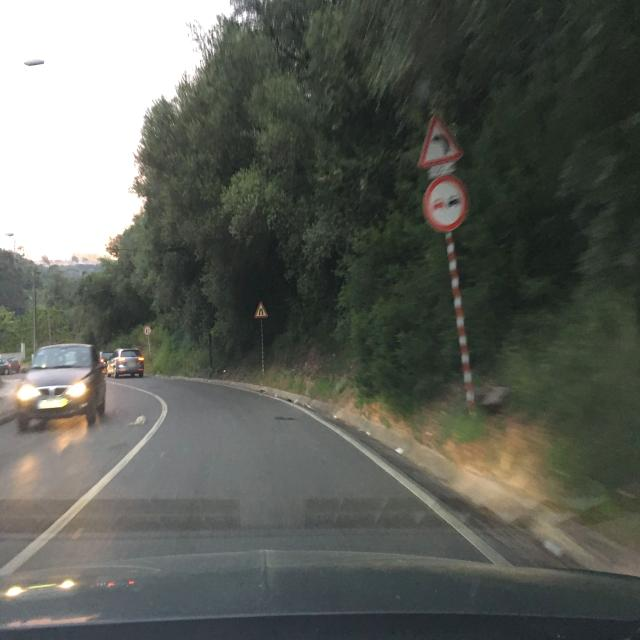car: (15, 342, 107, 430), (106, 348, 145, 378), (0, 354, 22, 375), (99, 351, 113, 367)
